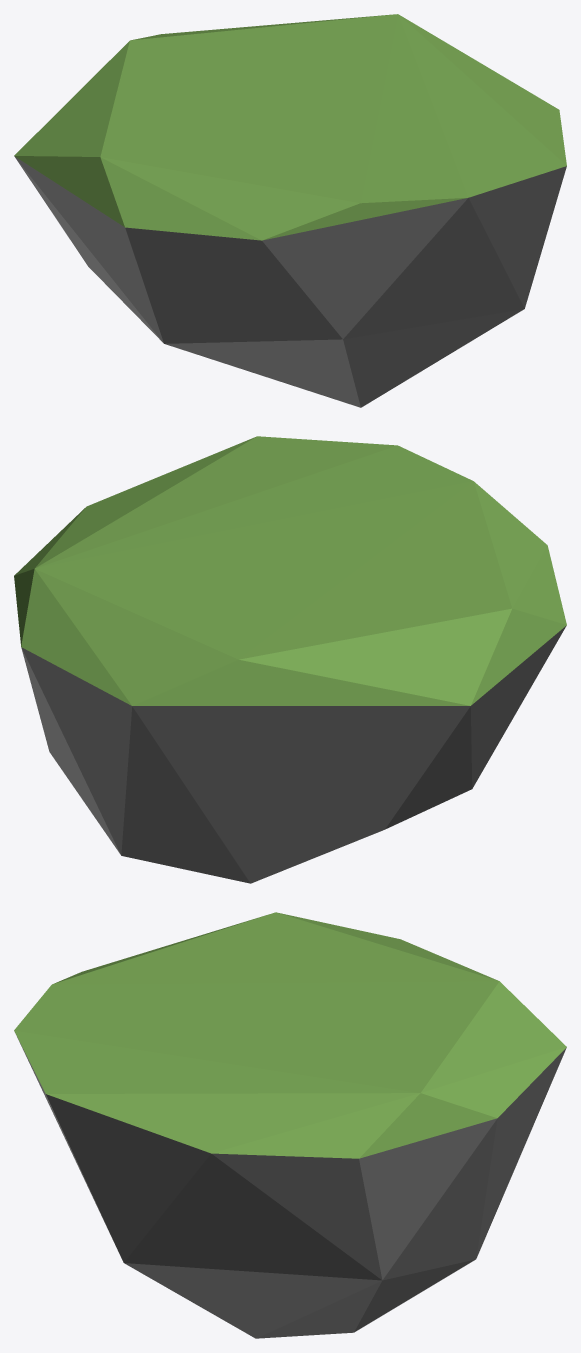
File: Platform.fbx
3 renders of one model, top to bottom at view 1: azimuth 30°, elevation 25°; view 2: azimuth 150°, elevation 25°; view 3: azimuth 270°, elevation 25°, orthographic. The views are drawn at different scales.
Parts seen in each view (by area): view 1: Icosphere; view 2: Icosphere; view 3: Icosphere.
Part boxes in pixels (bbox=[...]): Icosphere: bbox=[14, 14, 566, 407]; Icosphere: bbox=[14, 436, 566, 883]; Icosphere: bbox=[14, 912, 566, 1338].
Bounding box in the file's own units: 215 × 139 × 228.
